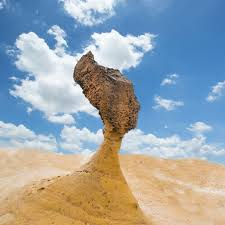yehliu: (63, 49, 152, 143)
